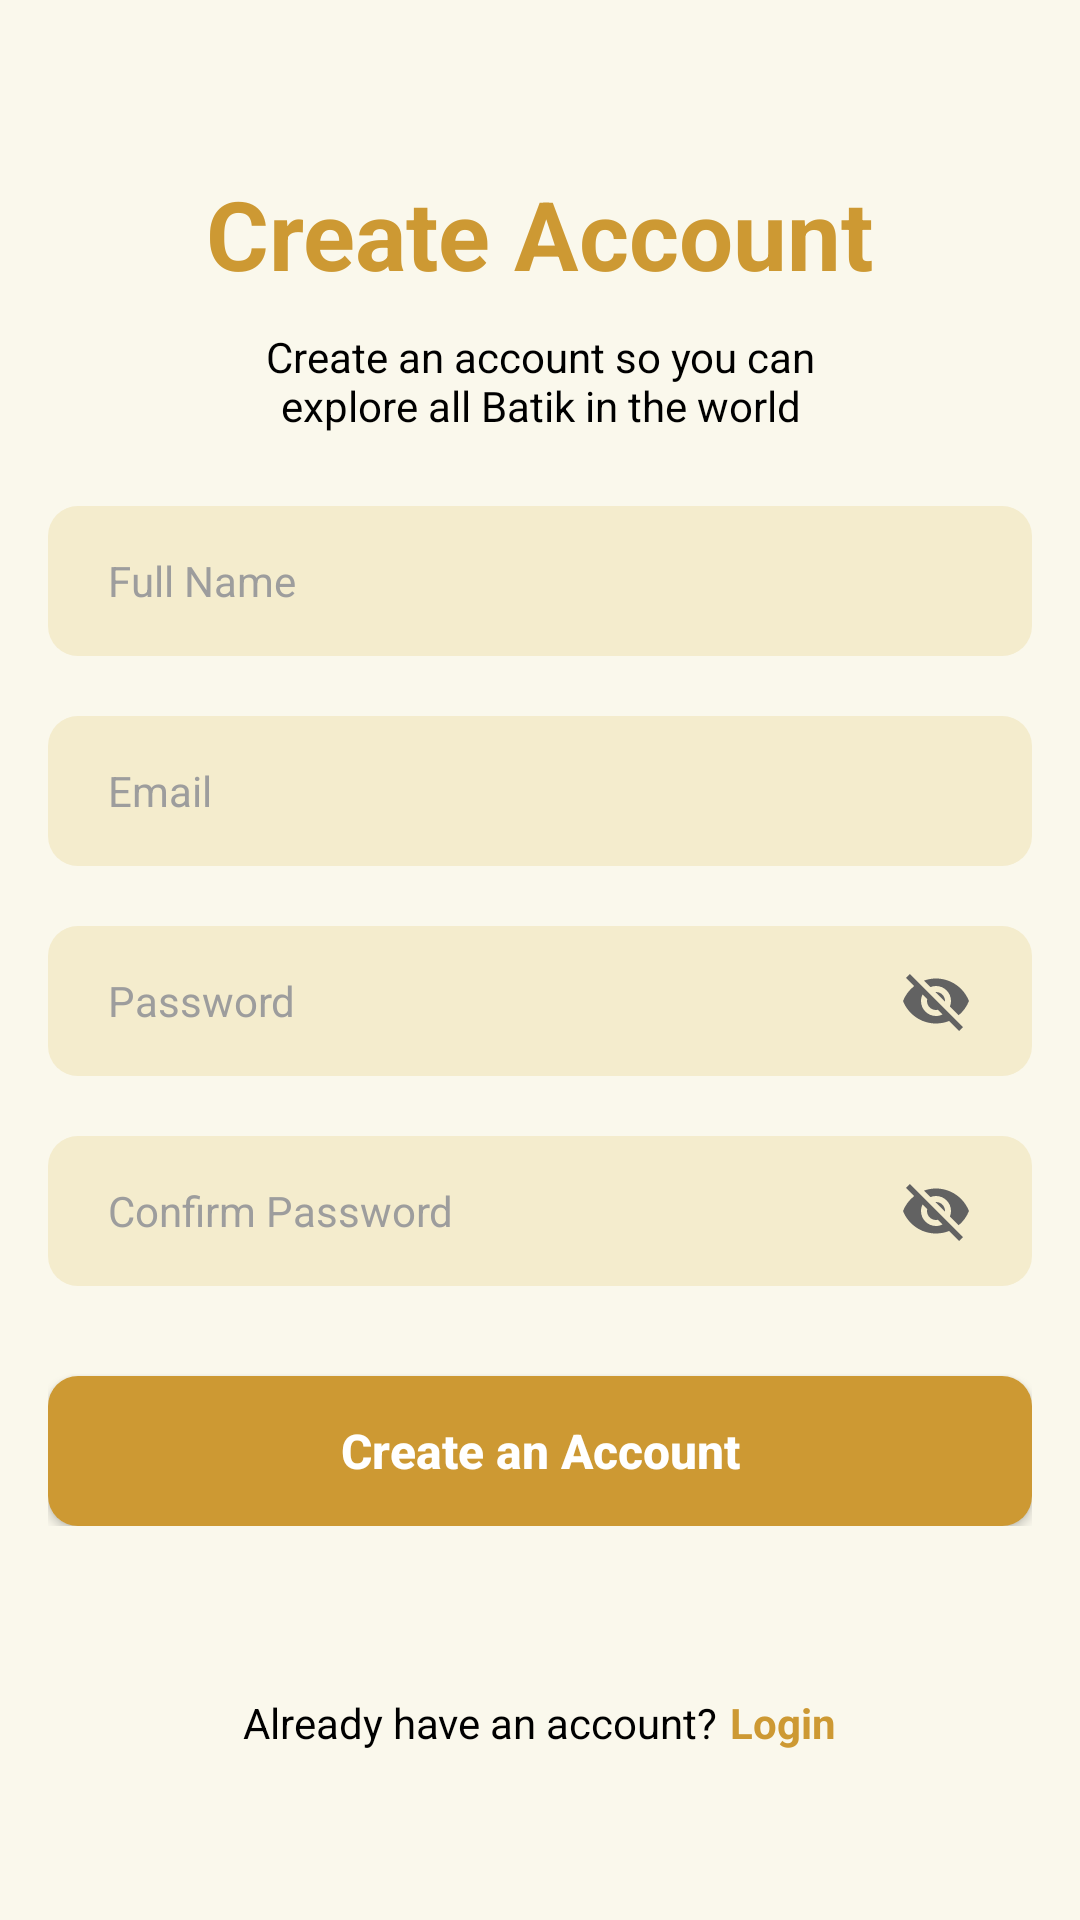

Icons on this 1080*1920 Android screen, each with its box as bbox=(x1, y1, x2, y2):
visibility off: bbox=(903, 974, 969, 1031), bbox=(903, 1184, 969, 1241)
